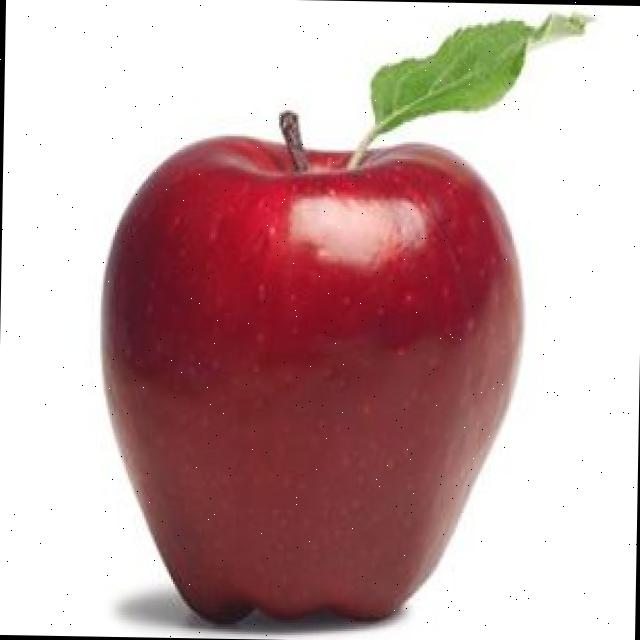Apel: (93, 104, 528, 629)
